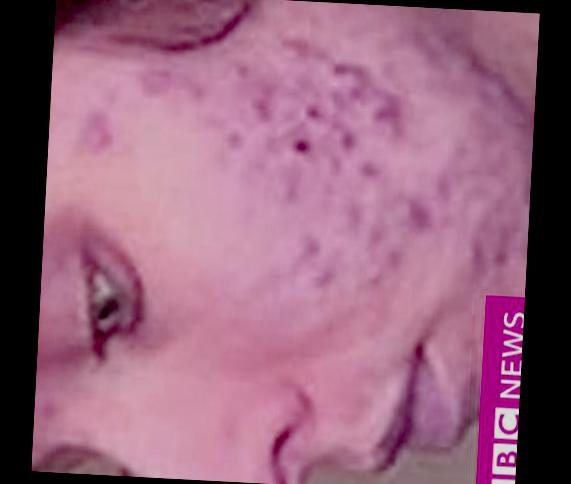Acne: (66, 114, 114, 159), (388, 195, 431, 233), (354, 97, 402, 129), (133, 64, 177, 98), (288, 232, 324, 266), (460, 241, 488, 284), (218, 124, 246, 152), (244, 92, 272, 119), (352, 159, 382, 182), (278, 35, 306, 59), (222, 57, 249, 81), (303, 266, 332, 288), (299, 102, 328, 122), (288, 137, 321, 154), (273, 179, 299, 199)
